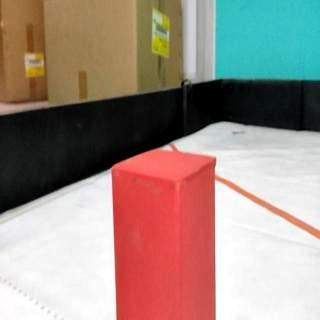redbox: (111, 149, 216, 320)
